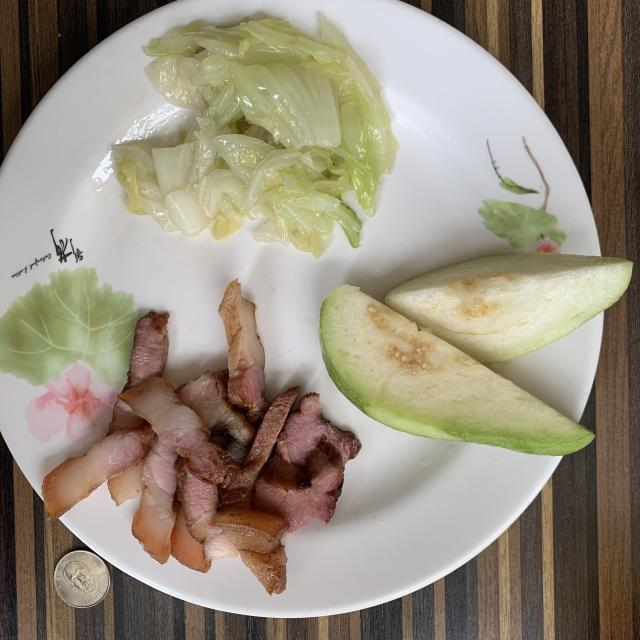cabbage: (115, 15, 398, 258)
coin: (54, 550, 110, 609)
grilled pork: (42, 280, 360, 594)
guava -sliced-: (320, 254, 631, 455)
